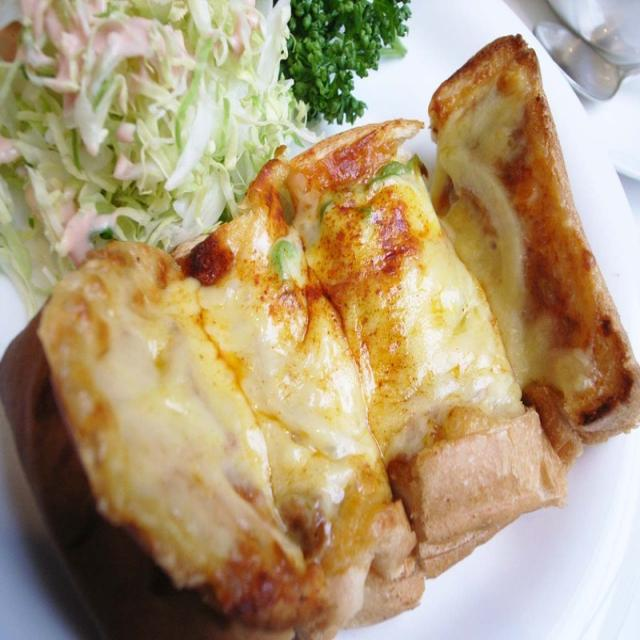面包点心: (0, 24, 640, 640)
